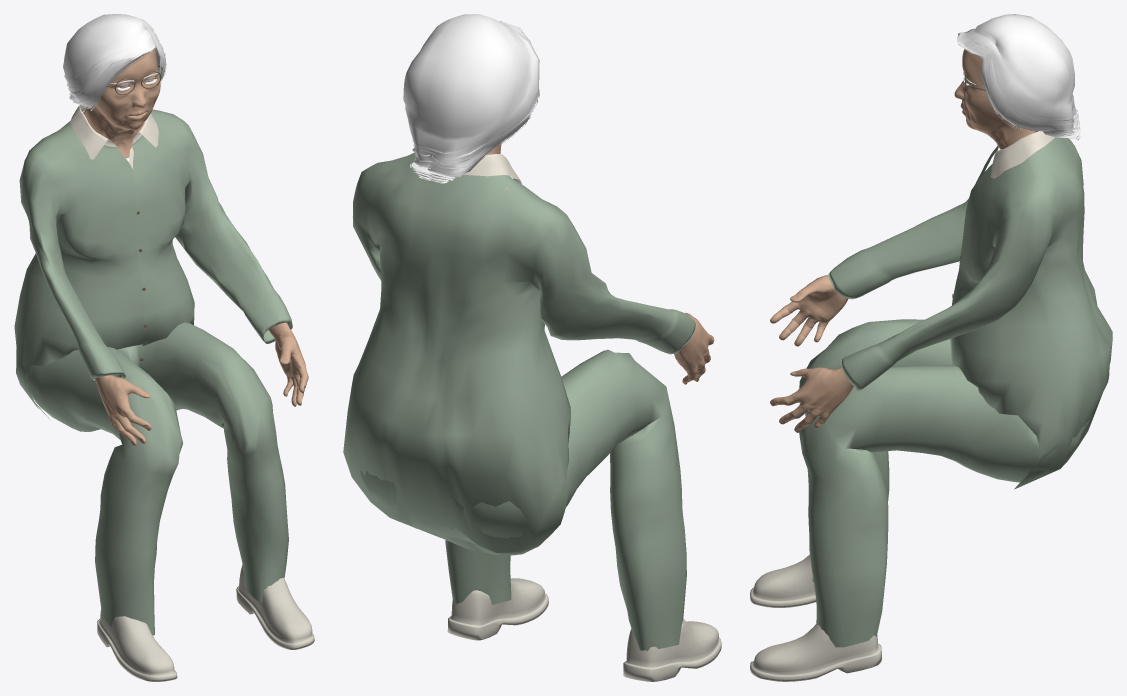
The model's file is elder-woman-seated.glb.
3 renders of one model, left to right at view 1: azimuth 30°, elevation 25°; view 2: azimuth 150°, elevation 25°; view 3: azimuth 270°, elevation 25°, orthographic. The views are drawn at different scales.
Visible parts, largest first — view 1: CC0 fitted clothes/male_casualsuit03/male_casualsuit03, smooth human anatomy with per-corner UV seams, CC0 fitted clothes/shoes04/shoes04, CC0 fitted hair/braid01/braid01, reference fitted original CC0 ivory collar; view 2: CC0 fitted clothes/male_casualsuit03/male_casualsuit03, CC0 fitted hair/braid01/braid01, CC0 fitted clothes/shoes04/shoes04, smooth human anatomy with per-corner UV seams, reference fitted original CC0 ivory collar; view 3: CC0 fitted clothes/male_casualsuit03/male_casualsuit03, CC0 fitted hair/braid01/braid01, smooth human anatomy with per-corner UV seams, CC0 fitted clothes/shoes04/shoes04, reference fitted original CC0 ivory collar.
Part boxes in pixels (<box>): CC0 fitted clothes/male_casualsuit03/male_casualsuit03: <box>14,109,292,635</box>; smooth human anatomy with per-corner UV seams: <box>61,49,308,446</box>; CC0 fitted clothes/shoes04/shoes04: <box>97,565,314,681</box>; CC0 fitted hair/braid01/braid01: <box>63,14,166,110</box>; reference fitted original CC0 ivory collar: <box>70,104,158,159</box>; CC0 fitted clothes/male_casualsuit03/male_casualsuit03: <box>343,152,695,651</box>; CC0 fitted hair/braid01/braid01: <box>403,14,539,183</box>; CC0 fitted clothes/shoes04/shoes04: <box>447,578,721,681</box>; smooth human anatomy with per-corner UV seams: <box>487,142,714,384</box>; reference fitted original CC0 ivory collar: <box>412,147,521,183</box>; CC0 fitted clothes/male_casualsuit03/male_casualsuit03: <box>799,137,1112,647</box>; CC0 fitted hair/braid01/braid01: <box>957,14,1080,140</box>; smooth human anatomy with per-corner UV seams: <box>770,49,1035,432</box>; CC0 fitted clothes/shoes04/shoes04: <box>750,554,881,681</box>; reference fitted original CC0 ivory collar: <box>990,131,1054,178</box>.
Bounding box in the file's own units: 0.476 × 1.27 × 0.673.
